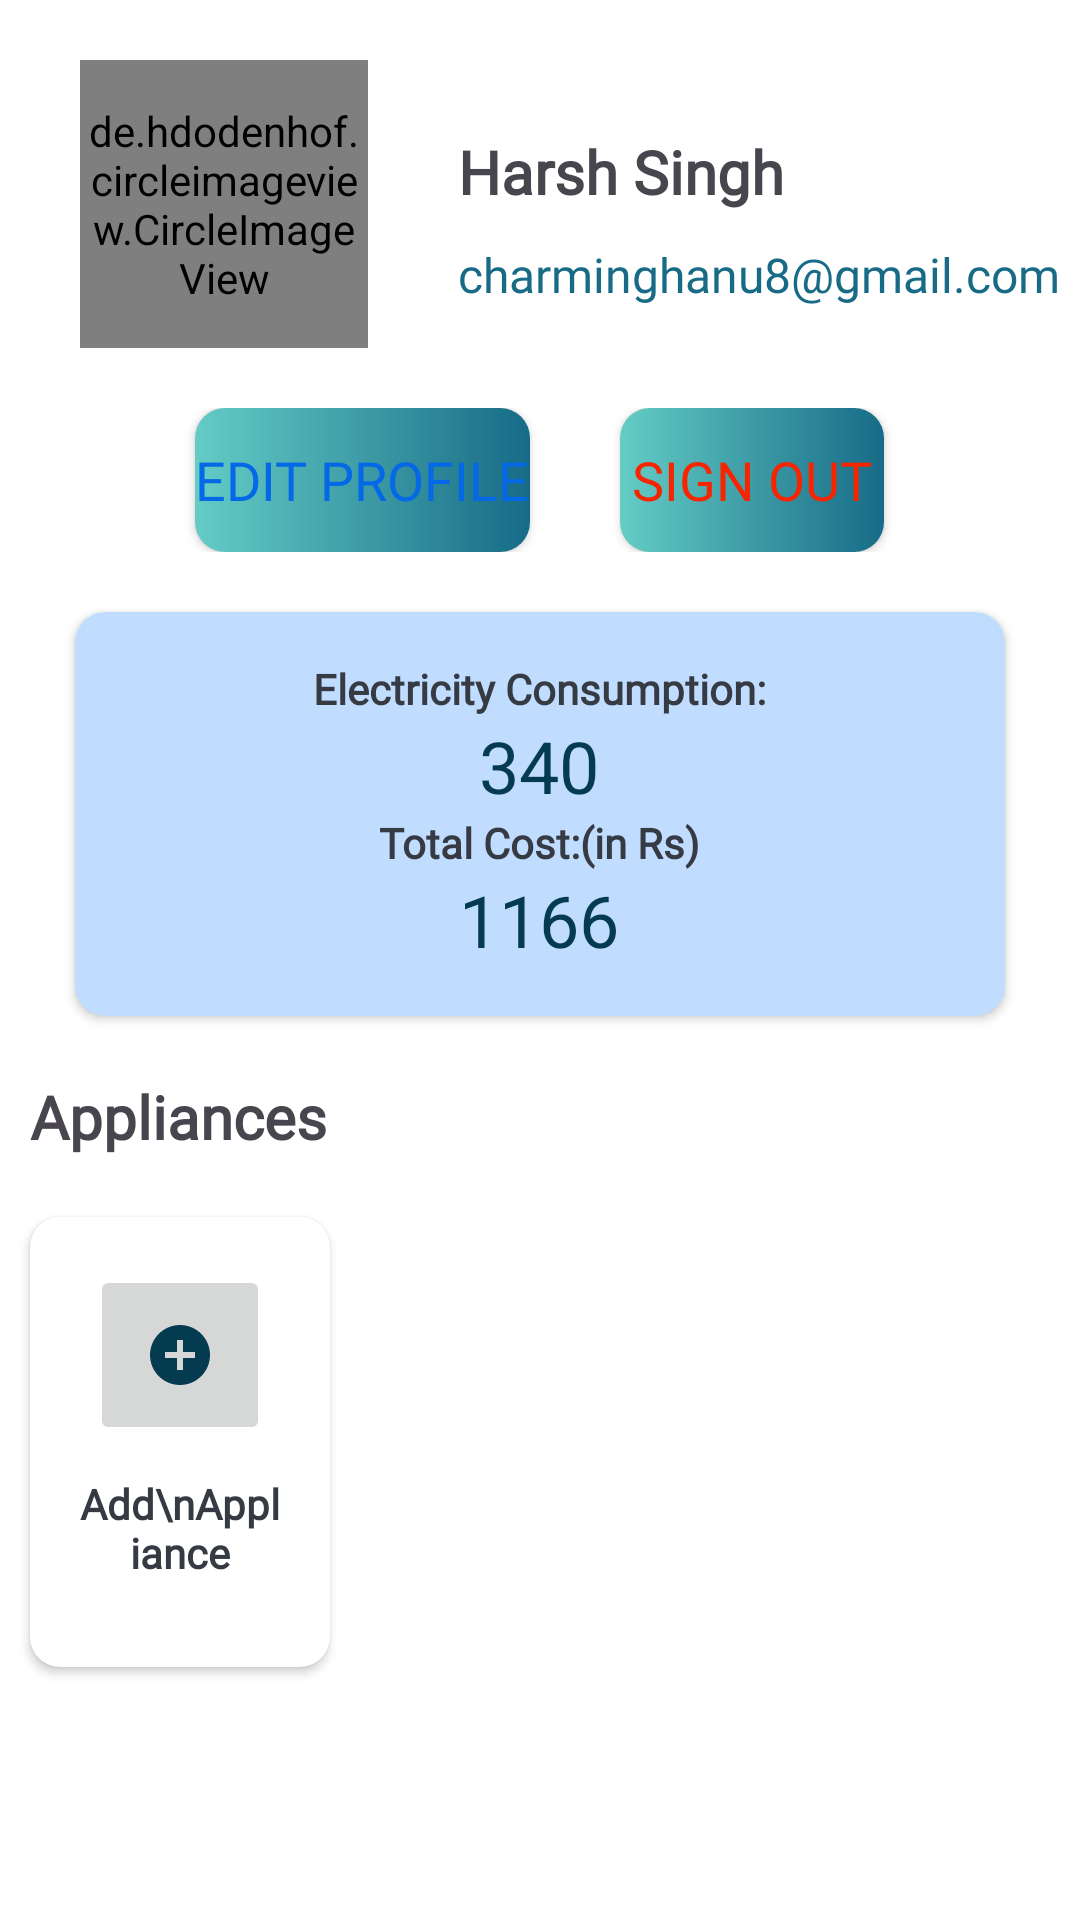

Icon bounding boxes for this 1080 x 1920 phone screenshot, format {"x1": x1, "y1": y1, "x2": x2, "y2": y2}:
add circle: {"x1": 102, "y1": 1283, "x2": 258, "y2": 1427}
